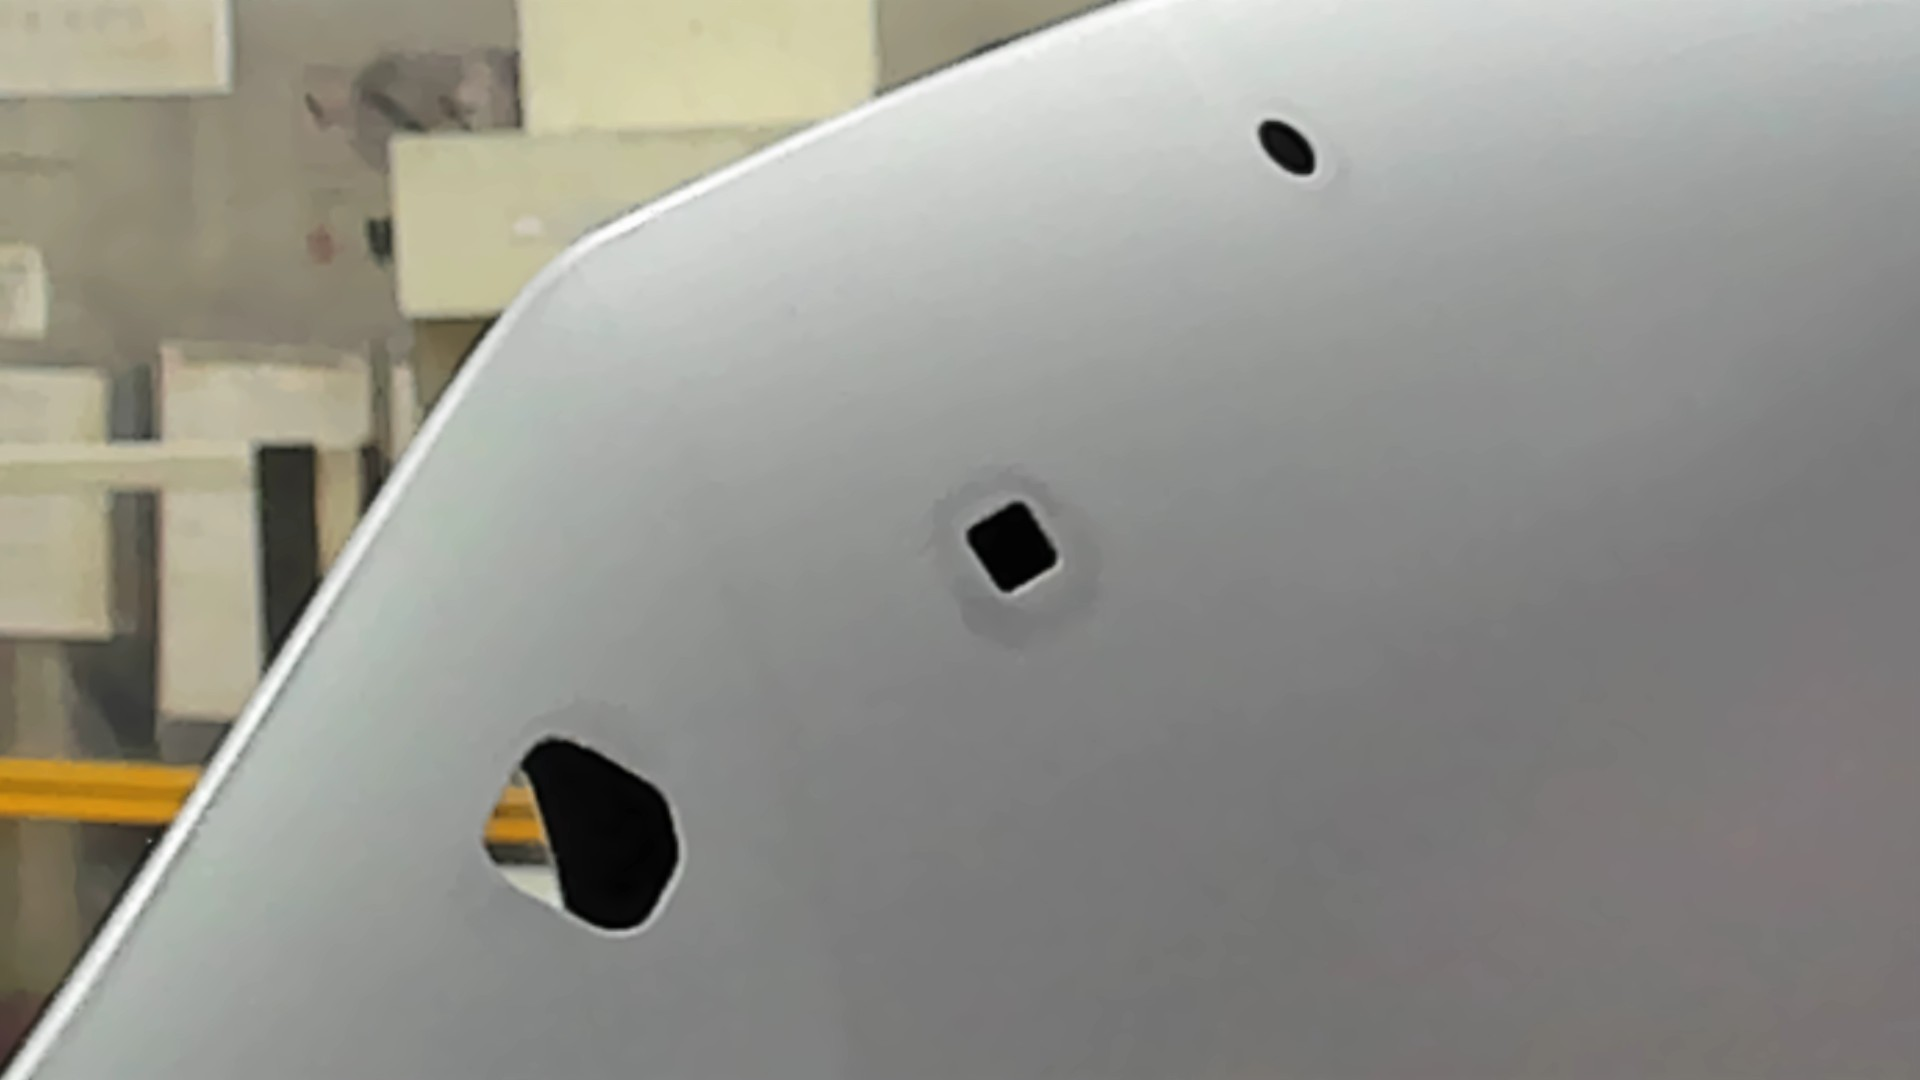chico: (1251, 113, 1323, 183)
grande: (477, 728, 687, 945)
mediano: (961, 491, 1071, 603)
